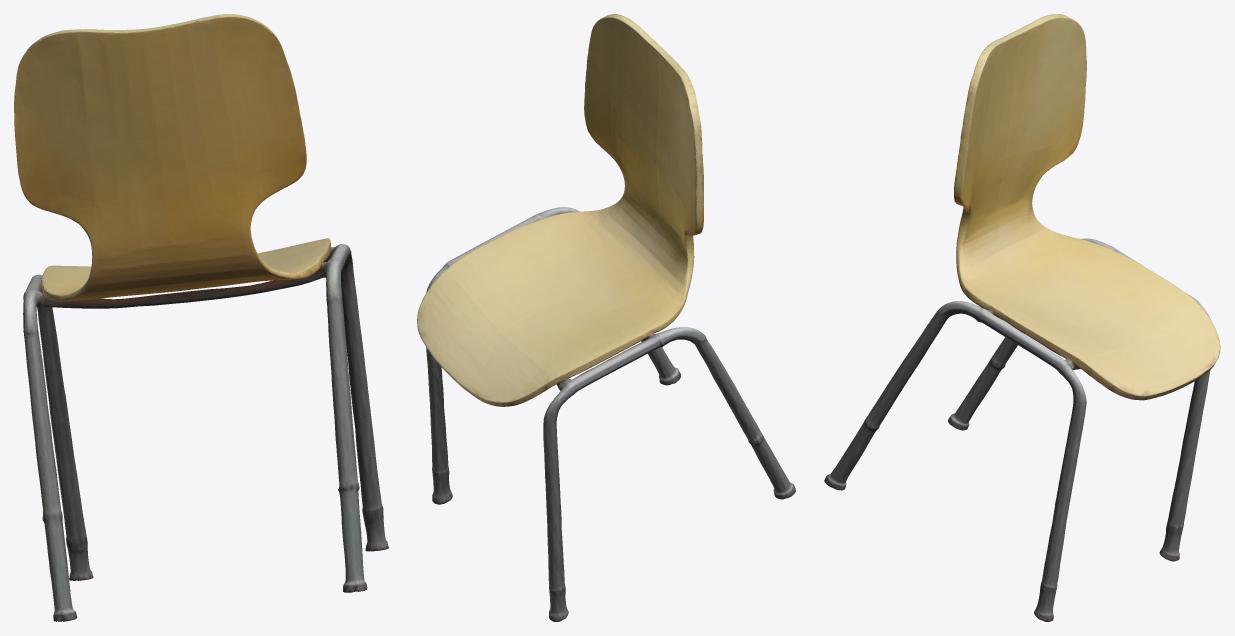
The model's file is light-colored_wooden_chair_against_back_wall_(center)_000.glb.
3 renders of one model, left to right at view 1: azimuth 30°, elevation 25°; view 2: azimuth 150°, elevation 25°; view 3: azimuth 270°, elevation 25°, orthographic. The views are drawn at different scales.
Parts seen in each view (by area): view 1: light-colored_wooden_chair_against_back_wall_(center)_000.ob; view 2: light-colored_wooden_chair_against_back_wall_(center)_000.ob; view 3: light-colored_wooden_chair_against_back_wall_(center)_000.ob.
Boxes of the visible parts, left/top/right/bottom form: light-colored_wooden_chair_against_back_wall_(center)_000.ob: left=14, top=14, right=388, bottom=621; light-colored_wooden_chair_against_back_wall_(center)_000.ob: left=417, top=14, right=795, bottom=621; light-colored_wooden_chair_against_back_wall_(center)_000.ob: left=824, top=14, right=1220, bottom=621.
Bounding box in the file's own units: 0.3515 × 0.5574 × 0.3826.
Materials: 1 (1 with a texture image).
